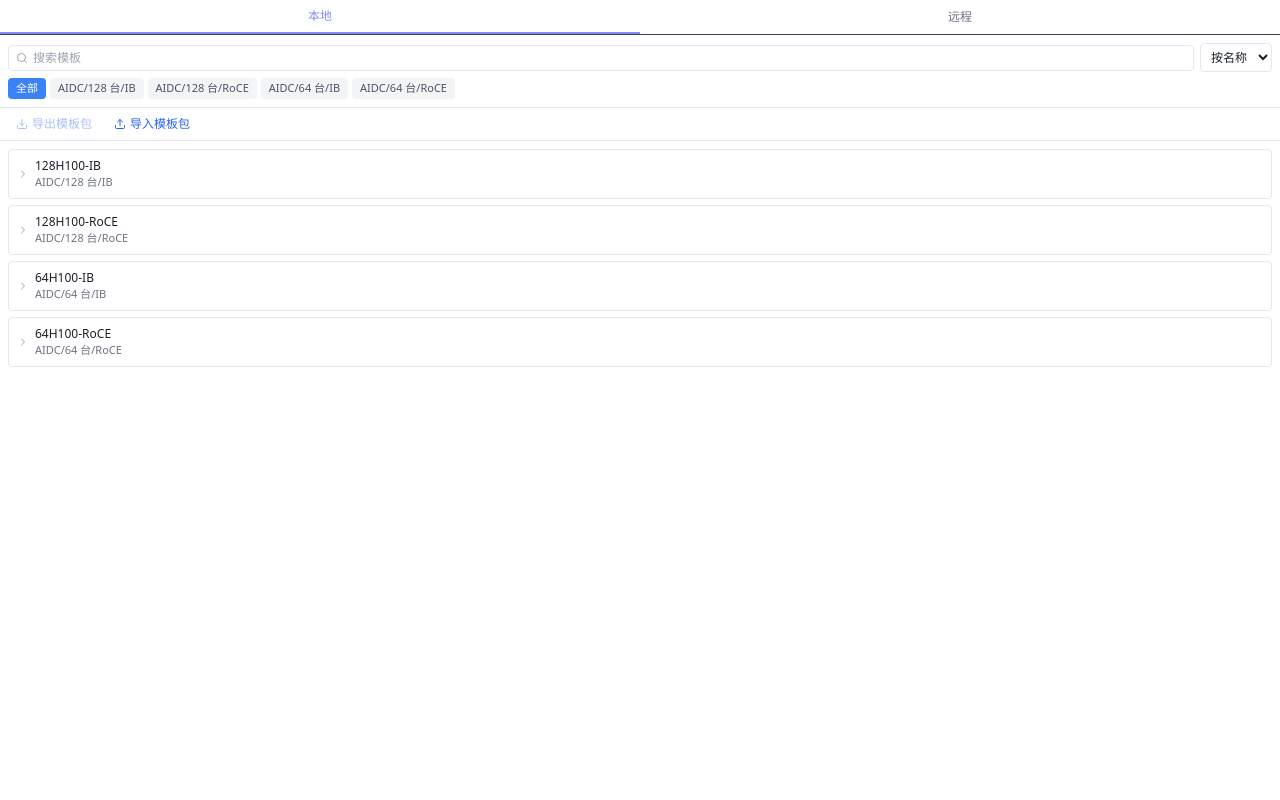
Test: 4.9.0 创建项目对话框分支 › 点击取消关闭对话框
Click the text "64H100-IB" at [64, 278], box top-left (35, 270), bottom-right (94, 286)
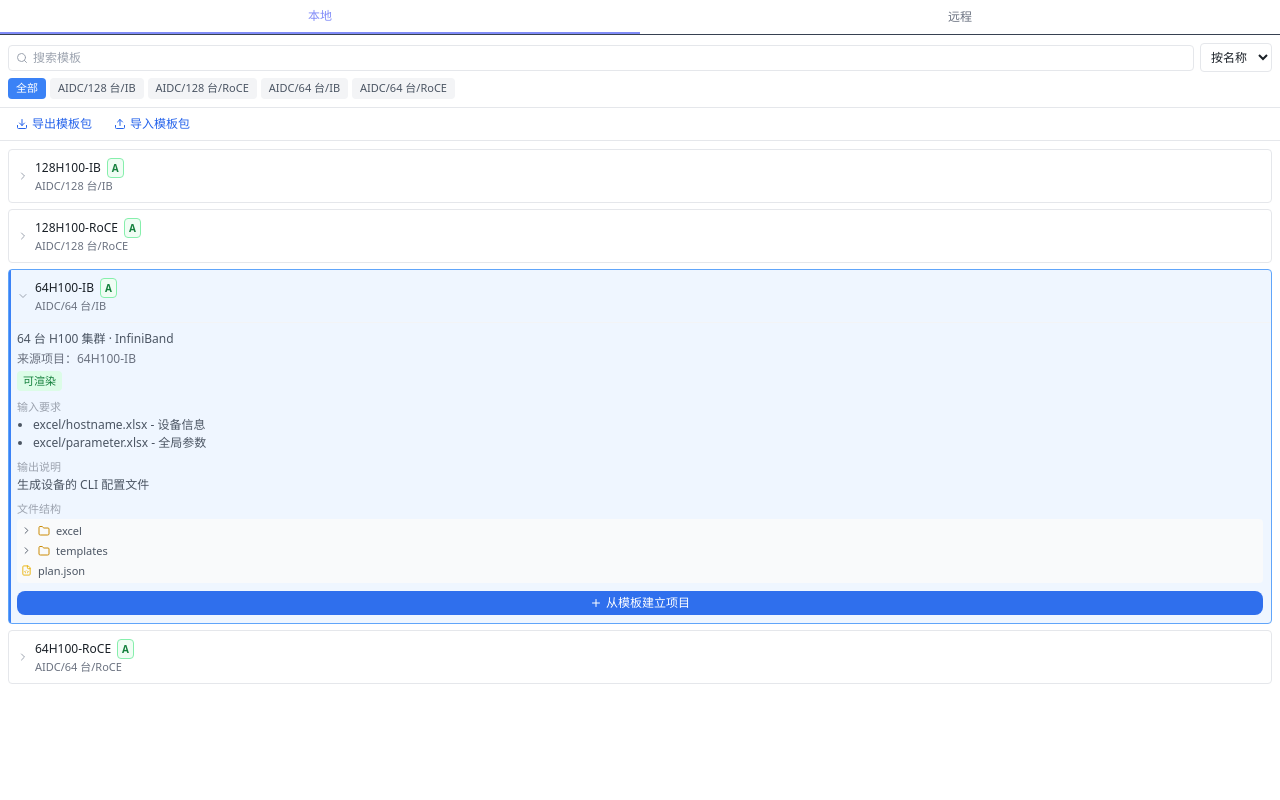
Click the button "从模板建立项目" at [640, 602], box top-left (17, 590), bottom-right (1263, 614)
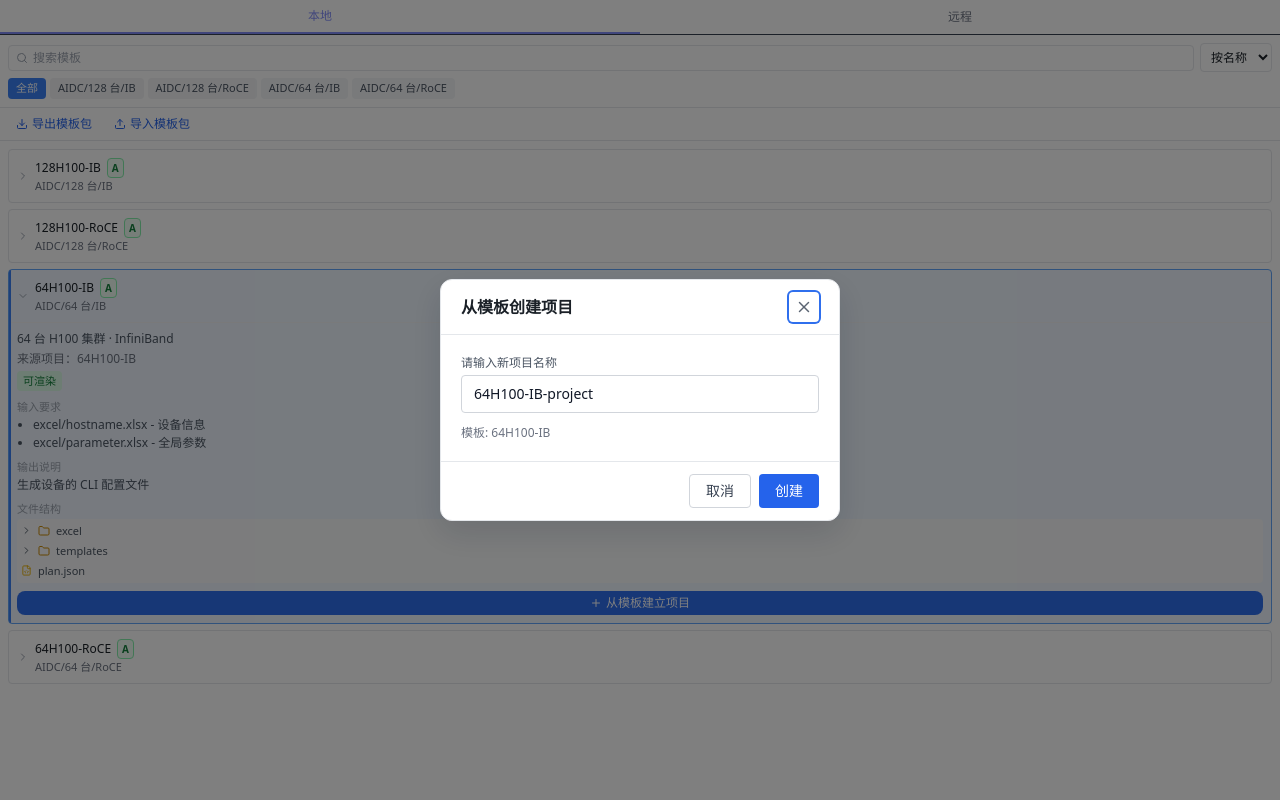
Click the button "取消" at [720, 491], box top-left (689, 474), bottom-right (751, 508)
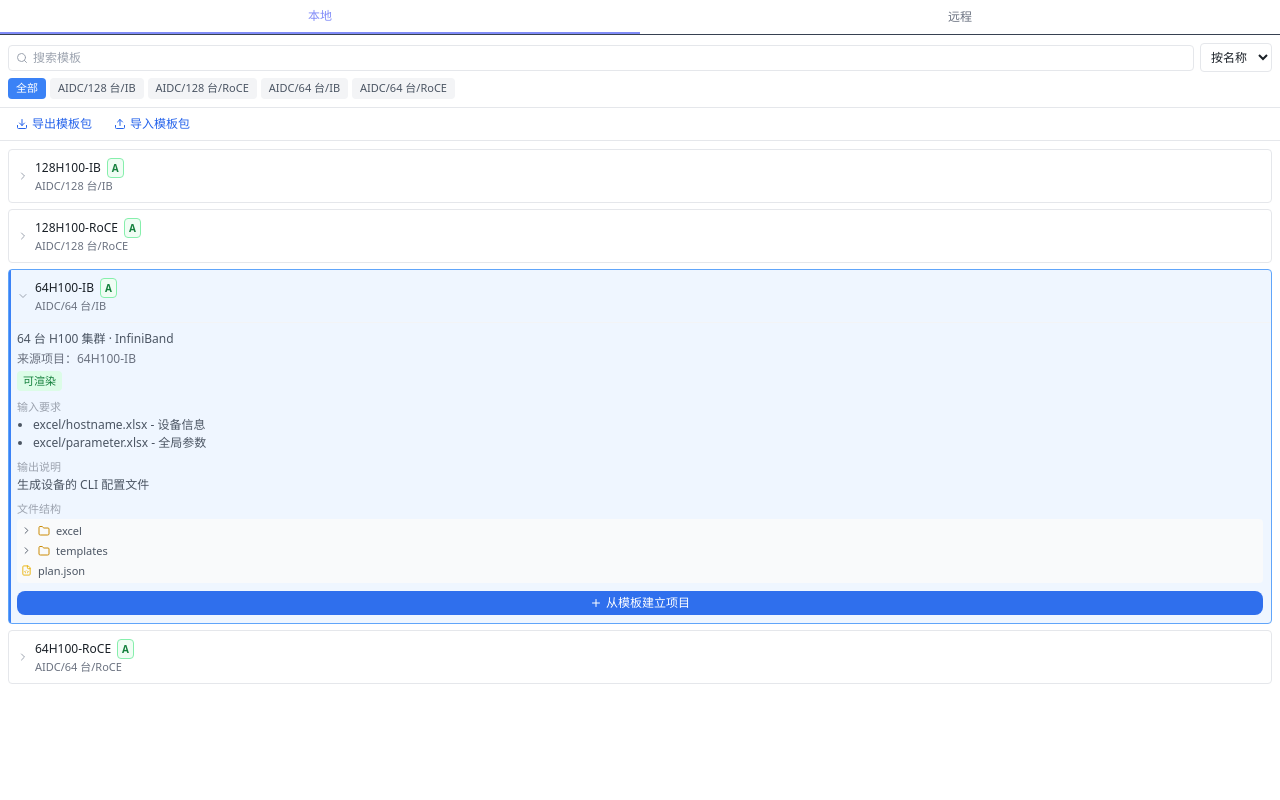
Expected: the label with placeholder "请输入新项目名称" is gone
